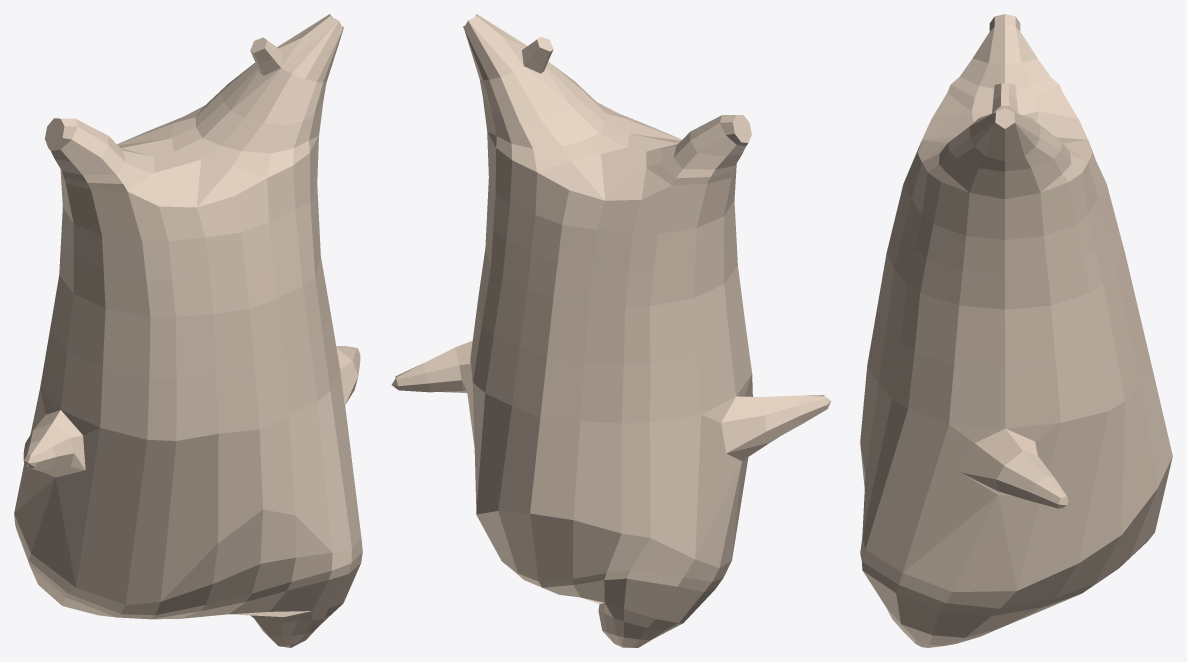
File: frame_0007.obj
3 views of the same model, side by side, from view 1: azimuth 30°, elevation 25°; view 2: azimuth 150°, elevation 25°; view 3: azimuth 270°, elevation 25° (orthographic). The views are drawn at different scales.
Visible parts, largest first — view 1: korok; view 2: korok; view 3: korok.
Boxes of the visible parts, box(x1,y1,x2,y2) form: korok: box(14, 14, 362, 647); korok: box(391, 14, 831, 647); korok: box(860, 14, 1172, 647).
Size of the model in its own units: 1.51 by 2.14 by 1.05.
